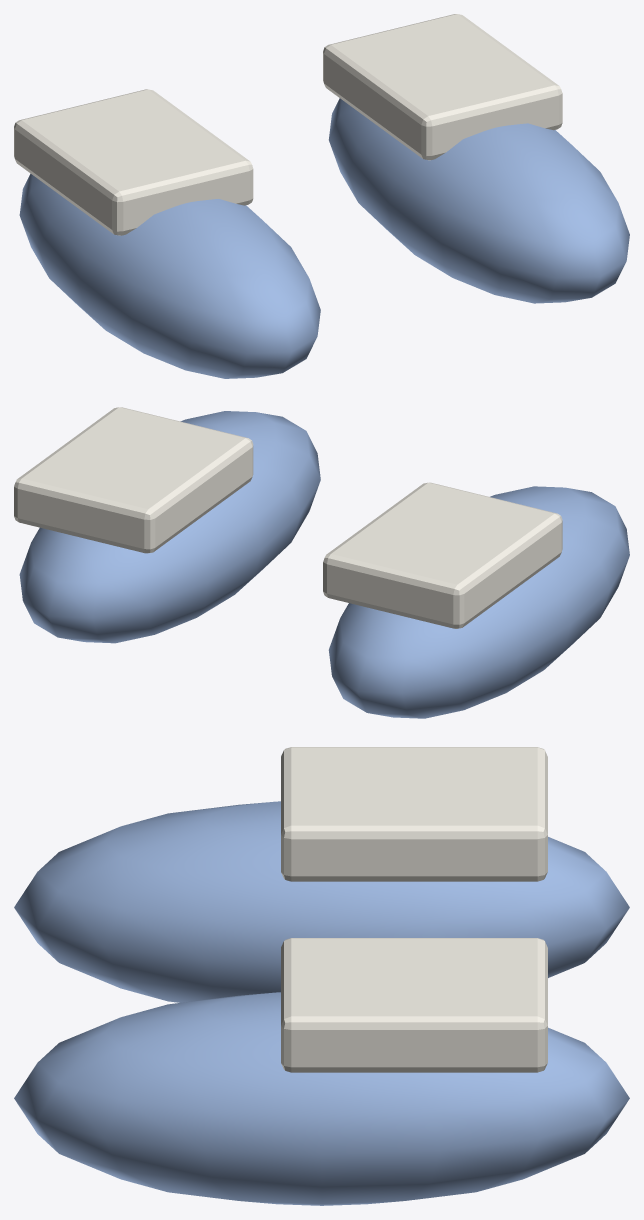
File: ShoeCovers_blockout.glb
The picture shows the model from 3 angles, top to bottom: view 1: azimuth 30°, elevation 25°; view 2: azimuth 150°, elevation 25°; view 3: azimuth 270°, elevation 25°; orthographic projection. The views are drawn at different scales.
Visible parts, largest first — view 1: PRP07_ShoeCovers_CoverL_L0, PRP07_ShoeCovers_CoverR_L0, PRP07_ShoeCovers_CuffR_L0, PRP07_ShoeCovers_CuffL_L0; view 2: PRP07_ShoeCovers_CoverR_L0, PRP07_ShoeCovers_CoverL_L0, PRP07_ShoeCovers_CuffL_L0, PRP07_ShoeCovers_CuffR_L0; view 3: PRP07_ShoeCovers_CoverR_L0, PRP07_ShoeCovers_CoverL_L0, PRP07_ShoeCovers_CuffL_L0, PRP07_ShoeCovers_CuffR_L0.
Part boxes in pixels (box(x1,y1,x2,y2)): PRP07_ShoeCovers_CoverL_L0: box(19, 173, 320, 378); PRP07_ShoeCovers_CoverR_L0: box(328, 98, 629, 303); PRP07_ShoeCovers_CuffR_L0: box(323, 14, 562, 160); PRP07_ShoeCovers_CuffL_L0: box(14, 89, 253, 235); PRP07_ShoeCovers_CoverR_L0: box(19, 411, 320, 643); PRP07_ShoeCovers_CoverL_L0: box(328, 486, 629, 718); PRP07_ShoeCovers_CuffL_L0: box(323, 482, 562, 628); PRP07_ShoeCovers_CuffR_L0: box(14, 407, 253, 553); PRP07_ShoeCovers_CoverR_L0: box(14, 992, 629, 1205); PRP07_ShoeCovers_CoverL_L0: box(14, 801, 629, 1002); PRP07_ShoeCovers_CuffL_L0: box(281, 747, 547, 881); PRP07_ShoeCovers_CuffR_L0: box(281, 938, 547, 1072).
Bounding box in the file's own units: 0.35 × 0.115 × 0.3.
